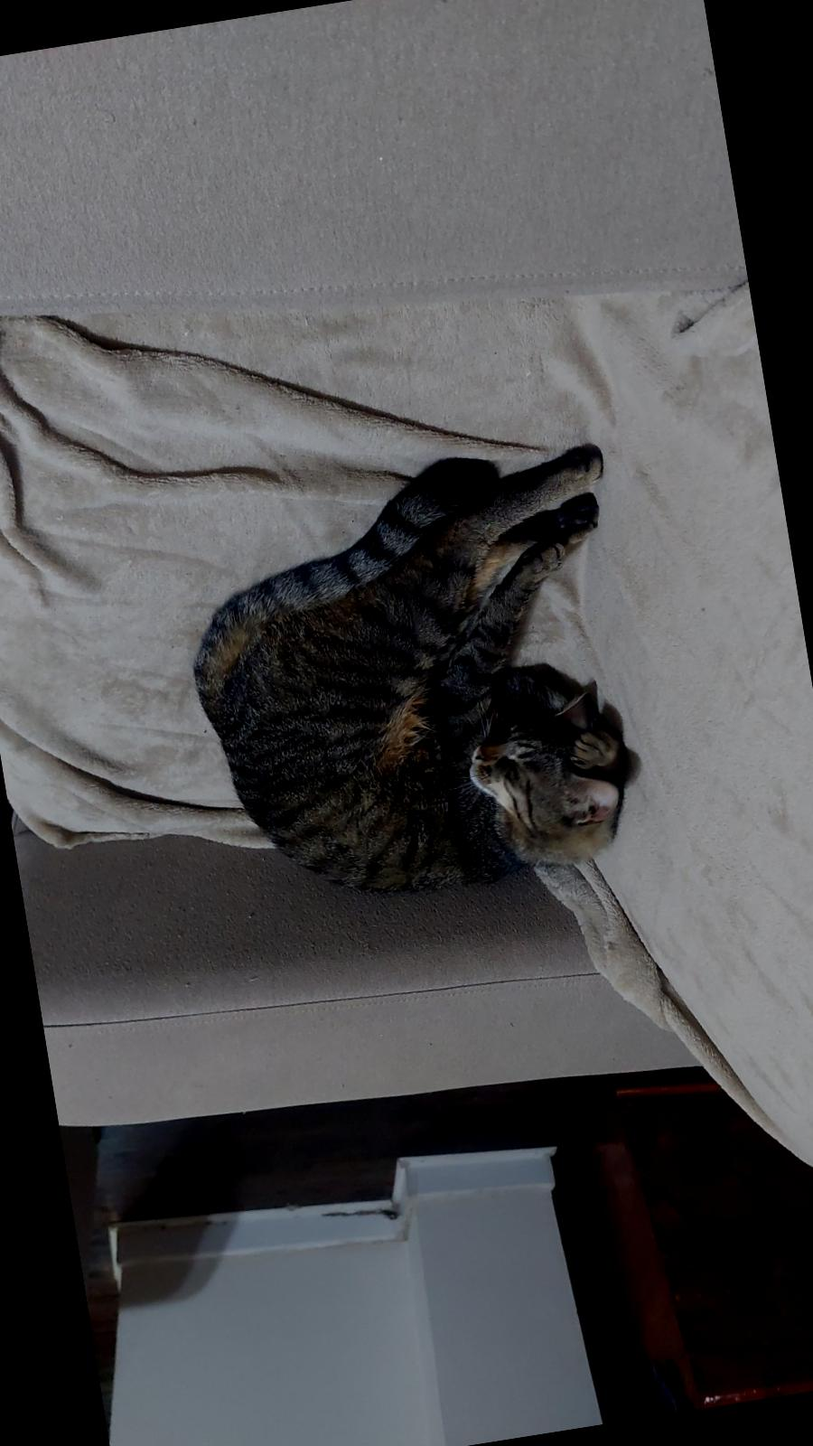macka: (168, 432, 667, 923)
